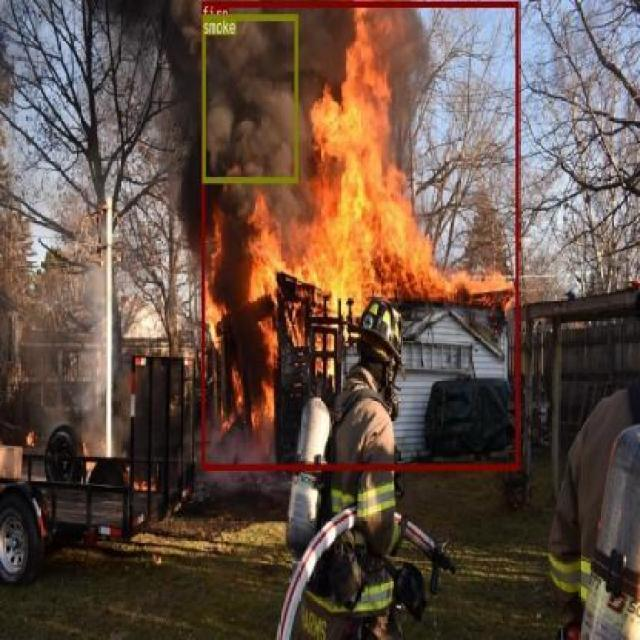Fire: (203, 192, 523, 330), (312, 5, 448, 307), (198, 305, 325, 453)
Smoke: (112, 0, 360, 278), (380, 0, 447, 183)
